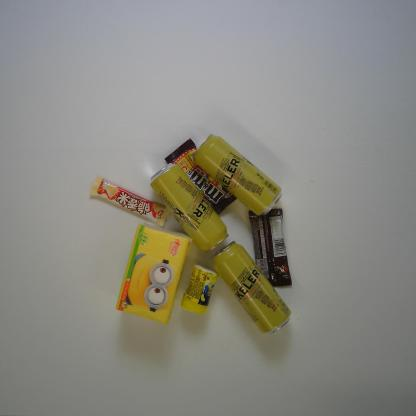Alcohol: (210, 240, 292, 336), (192, 133, 283, 217), (150, 162, 228, 253)
Chocolate: (164, 137, 238, 216), (90, 176, 171, 226), (248, 208, 293, 288)
Gum: (180, 263, 220, 315)
Tissue: (116, 222, 193, 325)
